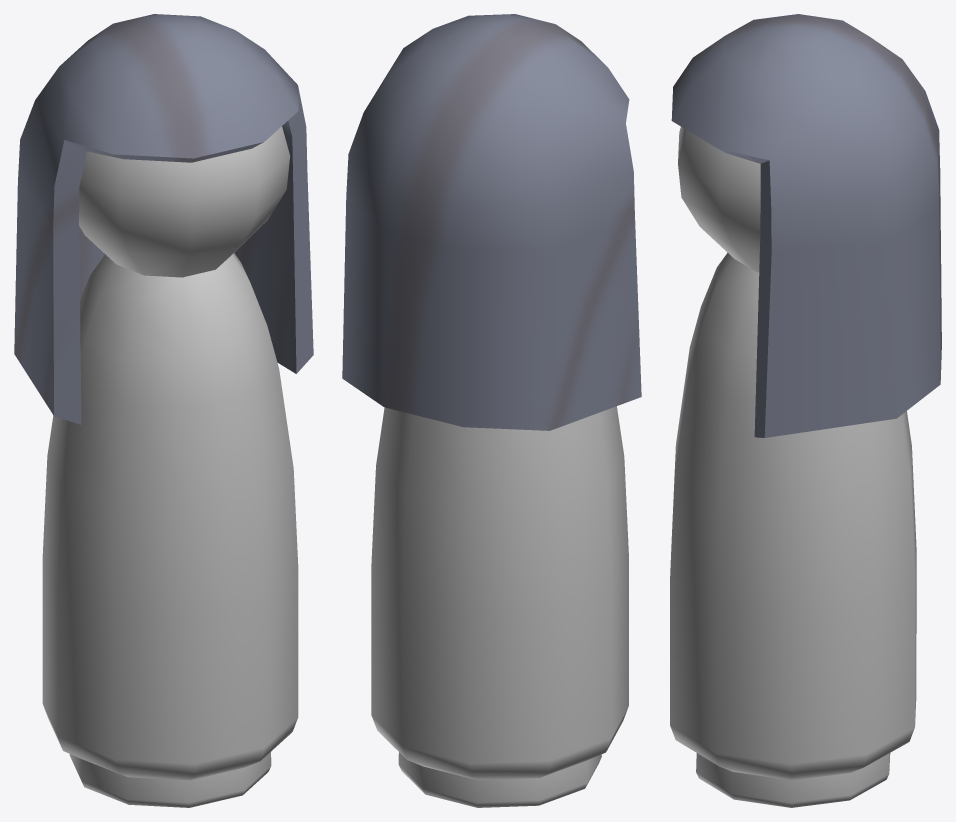
Rendered from Peg_Dress_Long_GreyHair.fbx.
3 renders of one model, left to right at view 1: azimuth 30°, elevation 25°; view 2: azimuth 150°, elevation 25°; view 3: azimuth 270°, elevation 25°, orthographic.
Visible parts, largest first — view 1: Peg_Dress_Long_GreyHair; view 2: Peg_Dress_Long_GreyHair; view 3: Peg_Dress_Long_GreyHair.
Part boxes in pixels (bbox=[...]): Peg_Dress_Long_GreyHair: bbox=[14, 14, 313, 807]; Peg_Dress_Long_GreyHair: bbox=[342, 14, 641, 807]; Peg_Dress_Long_GreyHair: bbox=[670, 14, 941, 807].
Size of the model in its own units: 2.13 by 5.86 by 1.94.
